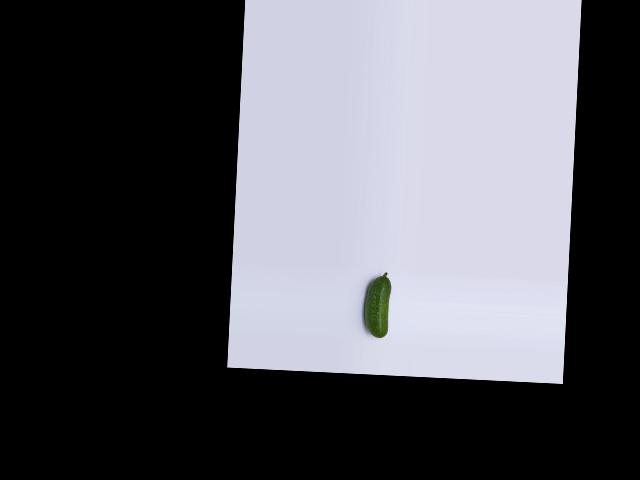cucumber: (363, 271, 391, 338)
